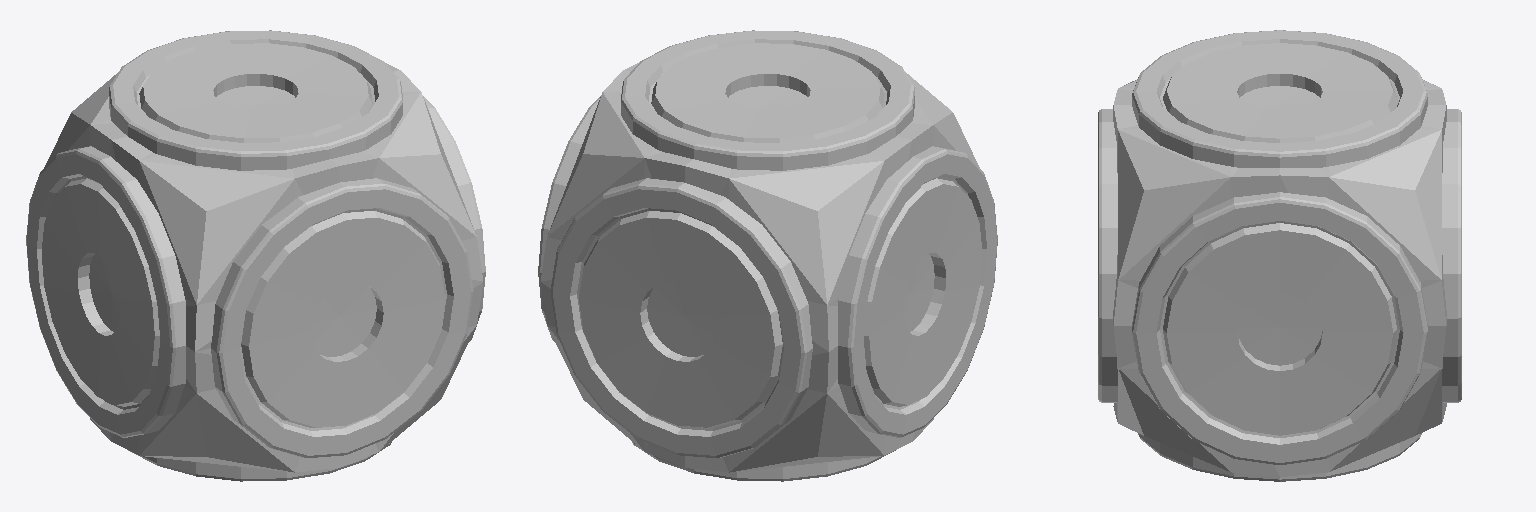
Rendered from hexin.obj.
The picture shows the model from 3 angles: view 1: azimuth 30°, elevation 25°; view 2: azimuth 150°, elevation 25°; view 3: azimuth 270°, elevation 25°; orthographic projection.
Parts seen in each view (by area): view 1: hexin:low2_pCylinder3; view 2: hexin:low2_pCylinder3; view 3: hexin:low2_pCylinder3.
Part boxes in pixels (x1,y1,x2,y2): hexin:low2_pCylinder3: (26,30,485,481); hexin:low2_pCylinder3: (538,30,997,481); hexin:low2_pCylinder3: (1098,30,1461,481).
Bounding box in the file's own units: 99.69 × 99.69 × 99.69.